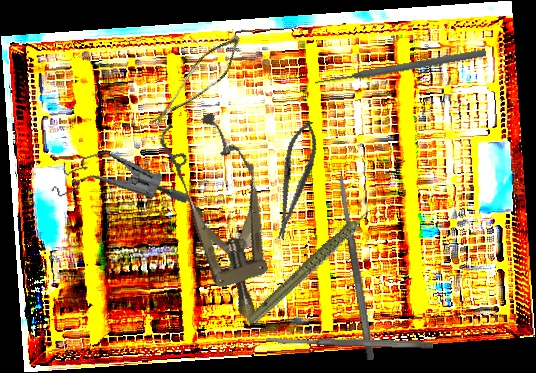Handpiece: (230, 204, 400, 326)
Micro Scissor: (149, 22, 247, 145)
Needle Holder: (265, 117, 324, 243)
Pusher: (314, 47, 487, 88)
Spatula Surgical: (336, 175, 376, 361), (265, 335, 434, 350)
Speculum: (152, 106, 295, 335), (43, 127, 191, 242)
